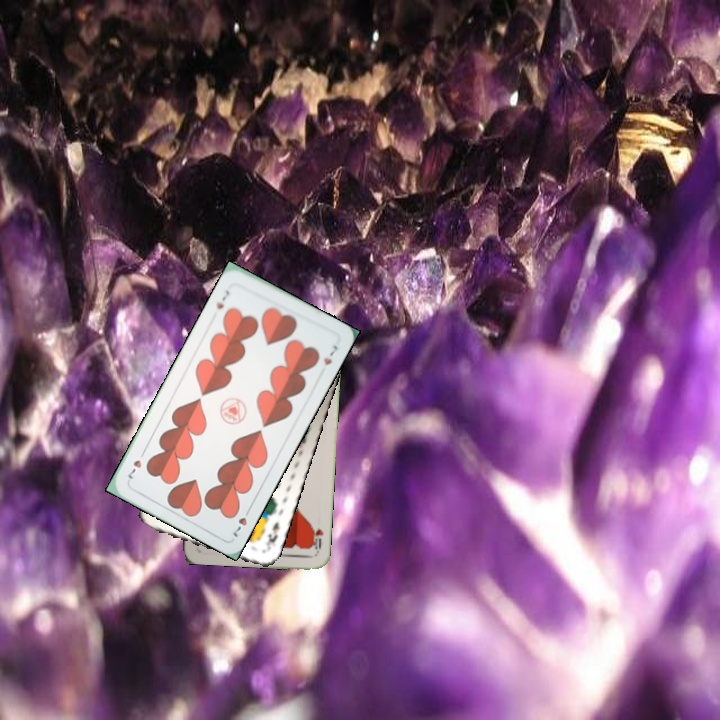EK: (262, 518, 282, 552)
H7: (228, 503, 254, 540), (212, 286, 232, 312)
HO: (306, 522, 326, 555)
